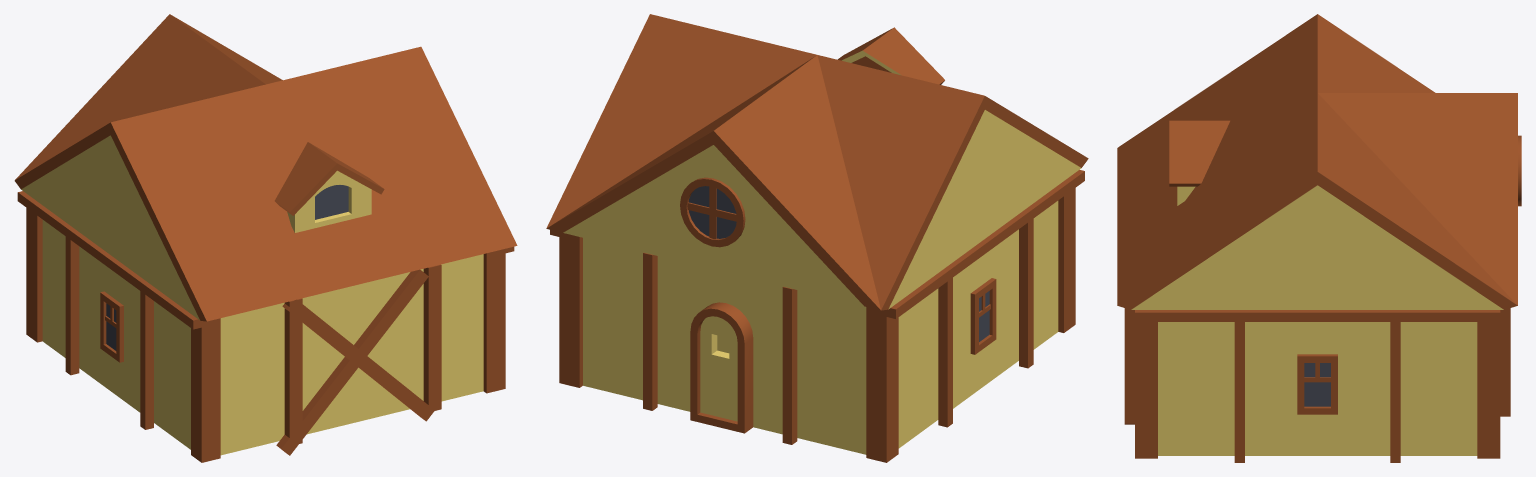
The model's file is Maison1.fbx.
3 renders of one model, left to right at view 1: azimuth 30°, elevation 25°; view 2: azimuth 150°, elevation 25°; view 3: azimuth 270°, elevation 25°, orthographic. The views are drawn at different scales.
Parts seen in each view (by area): view 1: roof_split_429, wall_corner_425, wall_corner_424, structure_poles_431, wall_corner_426, roof_dormer_448, structure_pole_442, structure_pole_443, structure_pole_436, structure_pole_440, structure_pole_439, structure_pole_437 (+2 smaller); view 2: roof_split_429, wall_corner_426, wall_corner_423, structure_poles_431, wall_corner_425, door_round_428, window_round_detail_449, structure_pole_436, roof_dormer_448, structure_pole_432, structure_pole_430, structure_pole_437 (+2 smaller); view 3: roof_split_429, wall_corner_423, wall_corner_424, structure_poles_431, structure_pole_435, roof_dormer_448, window_detail_446, structure_pole_433, structure_pole_434, structure_pole_440, structure_pole_430.
Part boxes in pixels (x1,y1,x2,y2): roof_split_429: (14, 14, 517, 321); wall_corner_425: (119, 276, 350, 455); wall_corner_424: (350, 254, 483, 423); structure_poles_431: (26, 208, 505, 462); wall_corner_426: (42, 220, 119, 396); roof_dormer_448: (274, 142, 384, 232); structure_pole_442: (276, 269, 428, 455); structure_pole_443: (282, 299, 434, 421); structure_pole_436: (17, 191, 201, 329); structure_pole_440: (423, 264, 441, 410); structure_pole_439: (284, 298, 302, 443); structure_pole_437: (65, 226, 79, 375); roof_split_429: (546, 14, 1088, 310); wall_corner_426: (726, 261, 975, 454); wall_corner_423: (583, 238, 726, 411); structure_poles_431: (559, 188, 1075, 462); wall_corner_425: (975, 201, 1058, 391); door_round_428: (690, 302, 753, 433); window_round_detail_449: (680, 177, 745, 247); structure_pole_436: (886, 169, 1084, 318); roof_dormer_448: (838, 27, 944, 84); structure_pole_432: (782, 286, 797, 444); structure_pole_430: (643, 252, 657, 410); structure_pole_437: (938, 266, 952, 427); roof_split_429: (1117, 14, 1517, 309); wall_corner_423: (1317, 322, 1477, 455); wall_corner_424: (1158, 322, 1317, 455); structure_poles_431: (1135, 322, 1500, 458); structure_pole_435: (1135, 310, 1500, 321); roof_dormer_448: (1169, 120, 1229, 205); window_detail_446: (1297, 354, 1337, 414); structure_pole_433: (1390, 310, 1400, 462); structure_pole_434: (1234, 310, 1244, 462); structure_pole_440: (1124, 308, 1134, 423); structure_pole_430: (1500, 308, 1510, 416).
Size of the model in its own units: 23.25 by 19.86 by 24.38.
